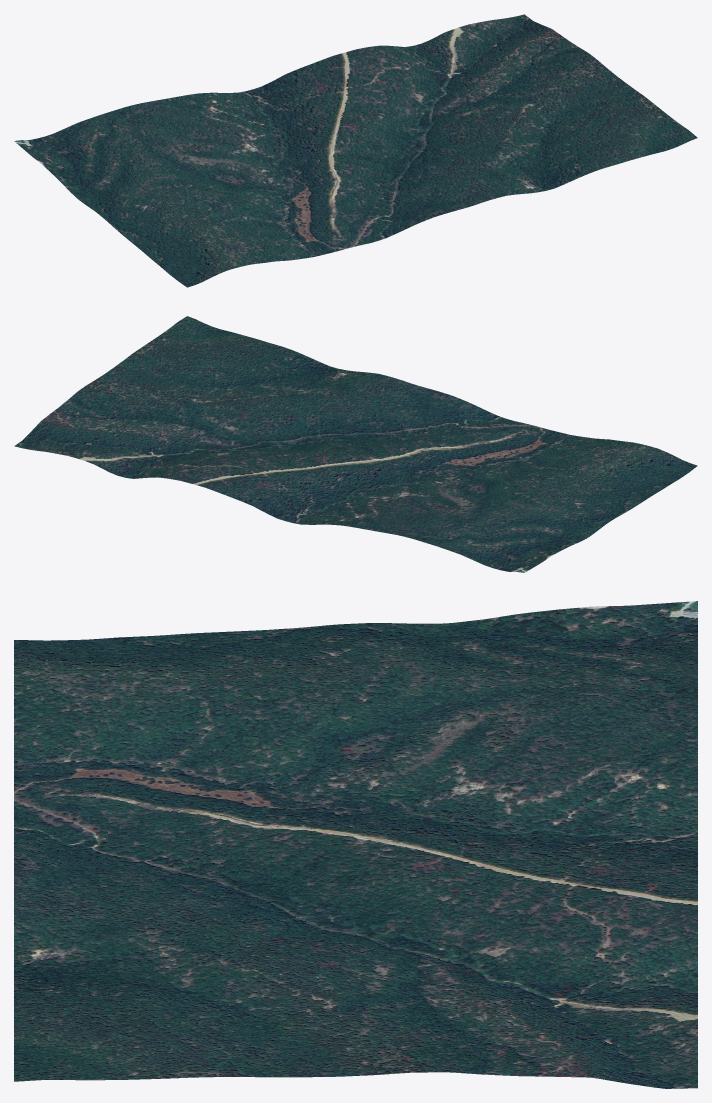
Rendered from Gallipoli.glb.
The picture shows the model from 3 angles, top to bottom: view 1: azimuth 30°, elevation 25°; view 2: azimuth 150°, elevation 25°; view 3: azimuth 270°, elevation 25°; orthographic projection. The views are drawn at different scales.
Parts seen in each view (by area): view 1: EXPORT_GOOGLE_SAT_WM; view 2: EXPORT_GOOGLE_SAT_WM; view 3: EXPORT_GOOGLE_SAT_WM.
Boxes of the visible parts, bbox=[...] form: EXPORT_GOOGLE_SAT_WM: bbox=[14, 14, 697, 287]; EXPORT_GOOGLE_SAT_WM: bbox=[14, 316, 697, 572]; EXPORT_GOOGLE_SAT_WM: bbox=[14, 601, 697, 1088].
Bounding box in the file's own units: 1299 × 73.61 × 764.
1 material, 1 textured.
